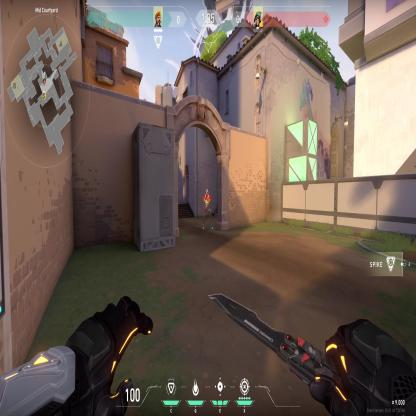enemy: (202, 188, 213, 230)
